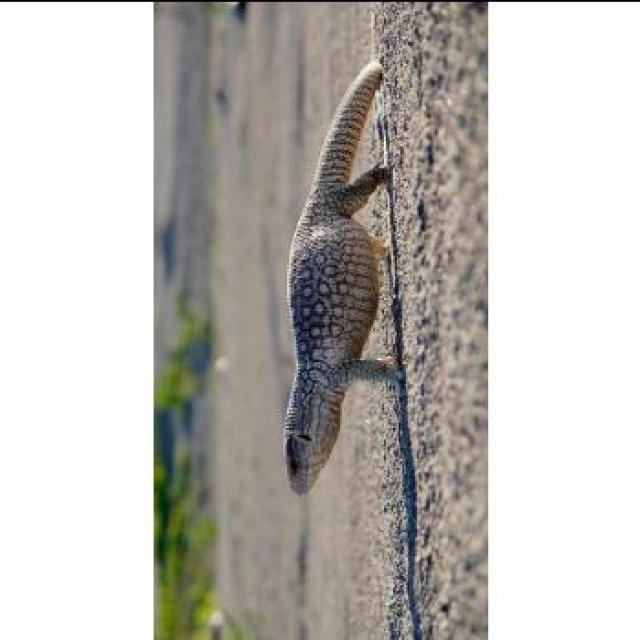Lizard: (268, 59, 398, 496)
